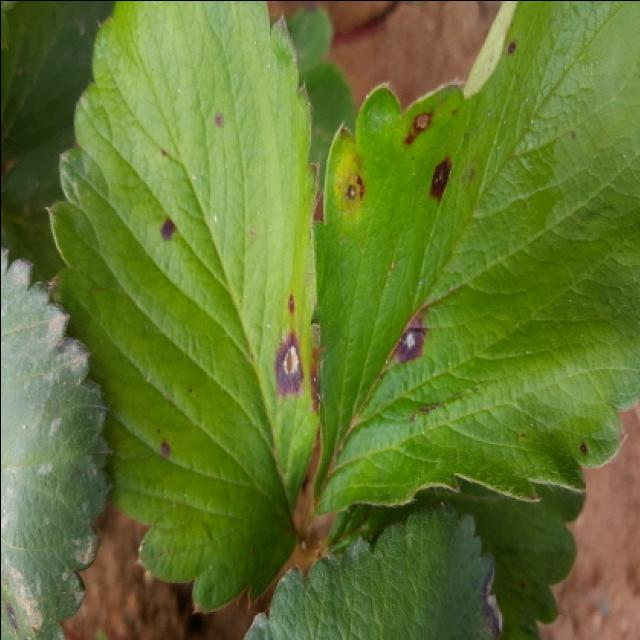Leaf Spot: (308, 2, 638, 516), (46, 2, 319, 612), (243, 503, 501, 640)
